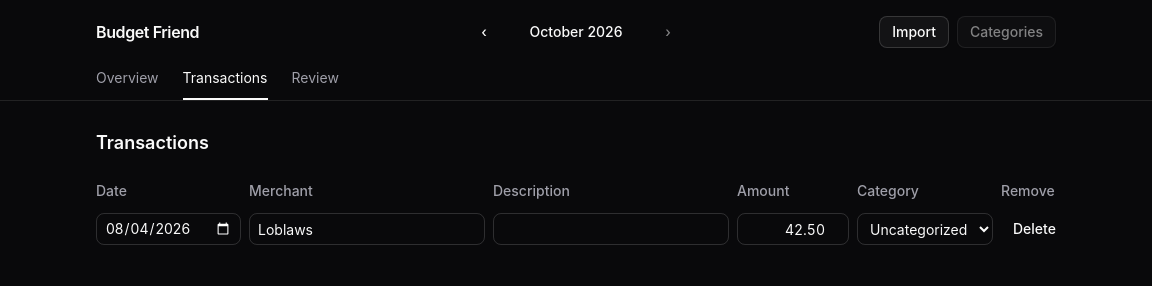
it: shows the server error message when an edit fails
Expected: the field showing "Loblaws" is shown, [249,213,485,245]
Select "Groceries" in the dropdown named "category" at (925, 229), box [857,213,993,245]
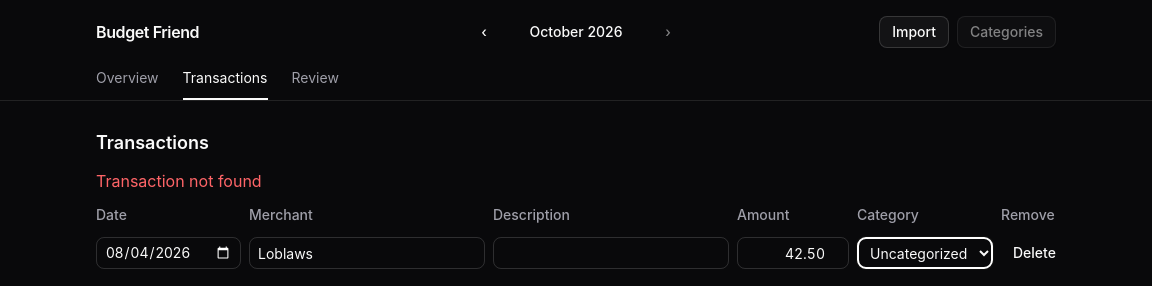
Expected: the message reads "Transaction not found", [96,171,262,191]
